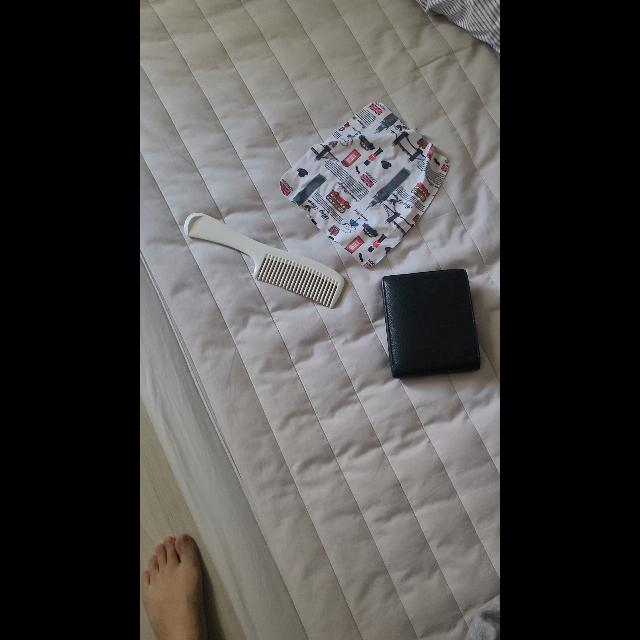COMB: (184, 212, 346, 310)
Glasses cleaning cloth: (279, 102, 449, 268)
WALLET: (381, 268, 481, 379)
